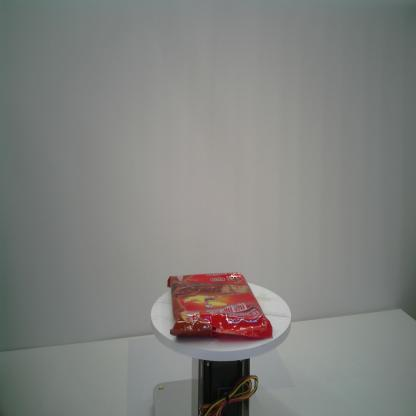Dessert: (166, 272, 274, 342)
